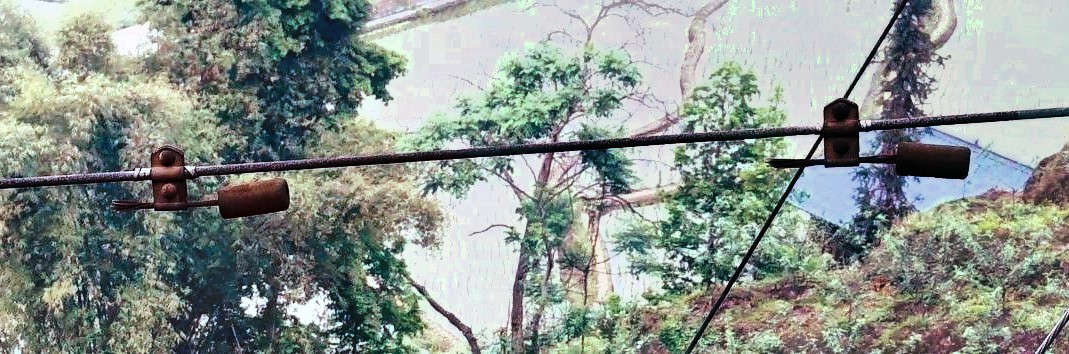Damage of shockproof hammer: (750, 92, 975, 185), (102, 134, 296, 232)
